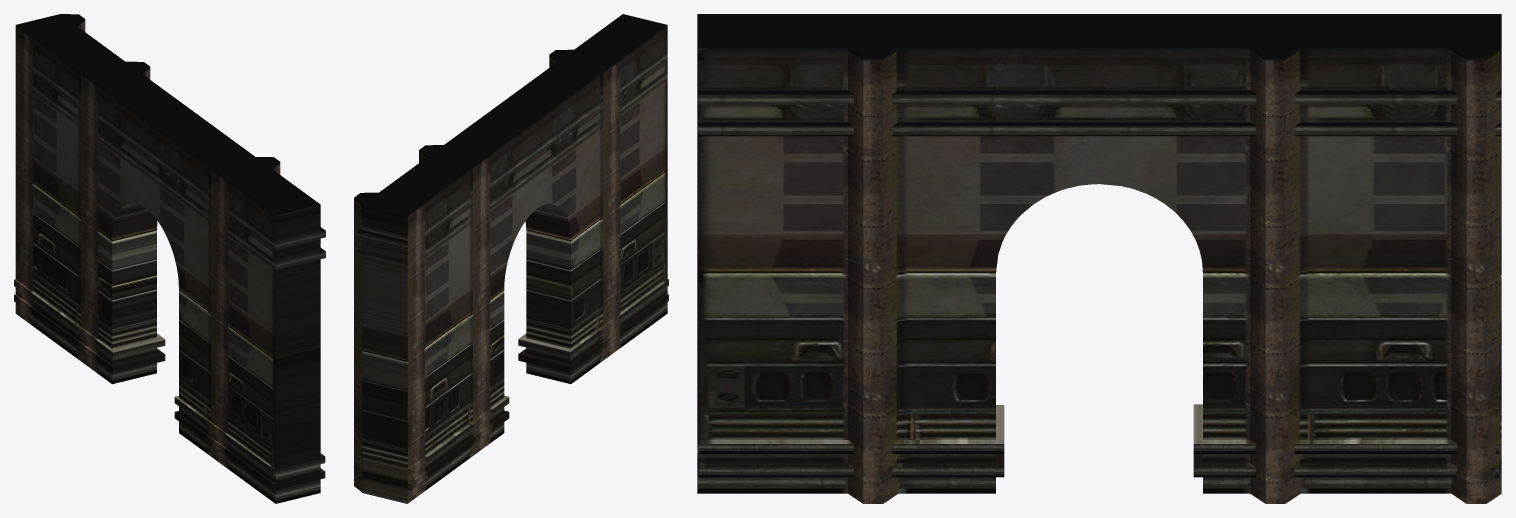
File: Arco_boolean+tex.fbx
The picture shows the model from 3 angles, left to right: view 1: azimuth 30°, elevation 25°; view 2: azimuth 150°, elevation 25°; view 3: azimuth 270°, elevation 25°; orthographic projection. The views are drawn at different scales.
Parts seen in each view (by area): view 1: polySurface5; view 2: polySurface5; view 3: polySurface5.
Boxes of the visible parts, <box> form: polySurface5: <box>14,14,325,503</box>; polySurface5: <box>354,14,668,503</box>; polySurface5: <box>697,14,1501,503</box>.
Size of the model in its own units: 1.35 by 6.15 by 10.06.
